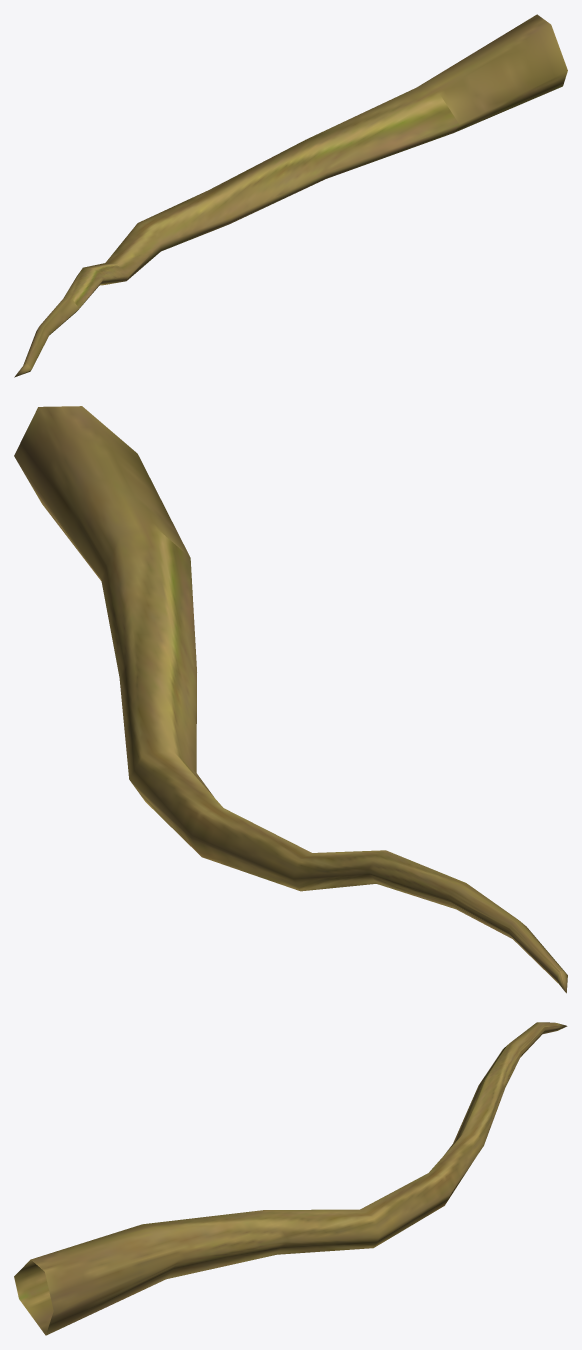
File: liemo_shuteng_08 #65350059.fbx
3 views of the same model, one above another, from view 1: azimuth 90°, elevation 25°; view 2: azimuth 150°, elevation 25°; view 3: azimuth 270°, elevation 25° (orthographic). The views are drawn at different scales.
Parts seen in each view (by area): view 1: liemo_shuteng_08; view 2: liemo_shuteng_08; view 3: liemo_shuteng_08.
Part boxes in pixels (<box>): liemo_shuteng_08: <box>14,14,567,377</box>; liemo_shuteng_08: <box>14,406,567,993</box>; liemo_shuteng_08: <box>14,1022,567,1335</box>.
Bounding box in the file's own units: 0.841 × 0.1181 × 0.6342.
